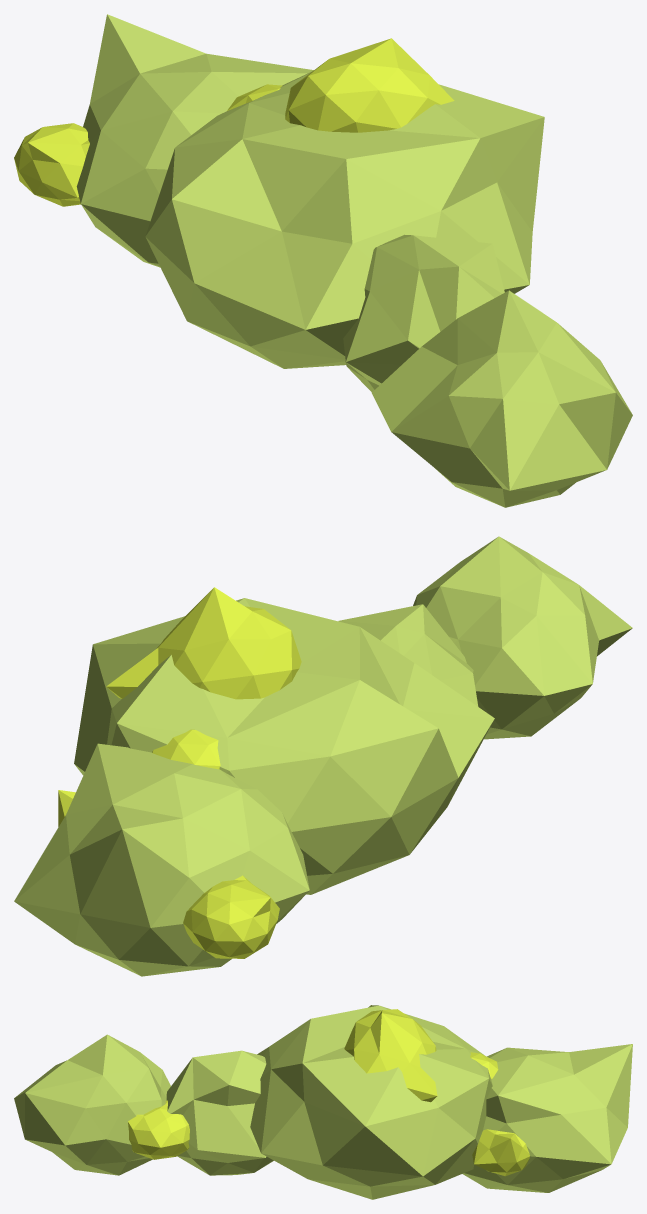
File: semak semak.fbx
The picture shows the model from 3 angles, top to bottom: view 1: azimuth 30°, elevation 25°; view 2: azimuth 150°, elevation 25°; view 3: azimuth 270°, elevation 25°; orthographic projection. The views are drawn at different scales.
Parts seen in each view (by area): view 1: Icosphere.012; view 2: Icosphere.012; view 3: Icosphere.012.
Part boxes in pixels (bbox=[...]): Icosphere.012: bbox=[14, 14, 632, 507]; Icosphere.012: bbox=[14, 536, 632, 976]; Icosphere.012: bbox=[14, 1005, 632, 1199].
Bounding box in the file's own units: 273 × 209 × 603.
